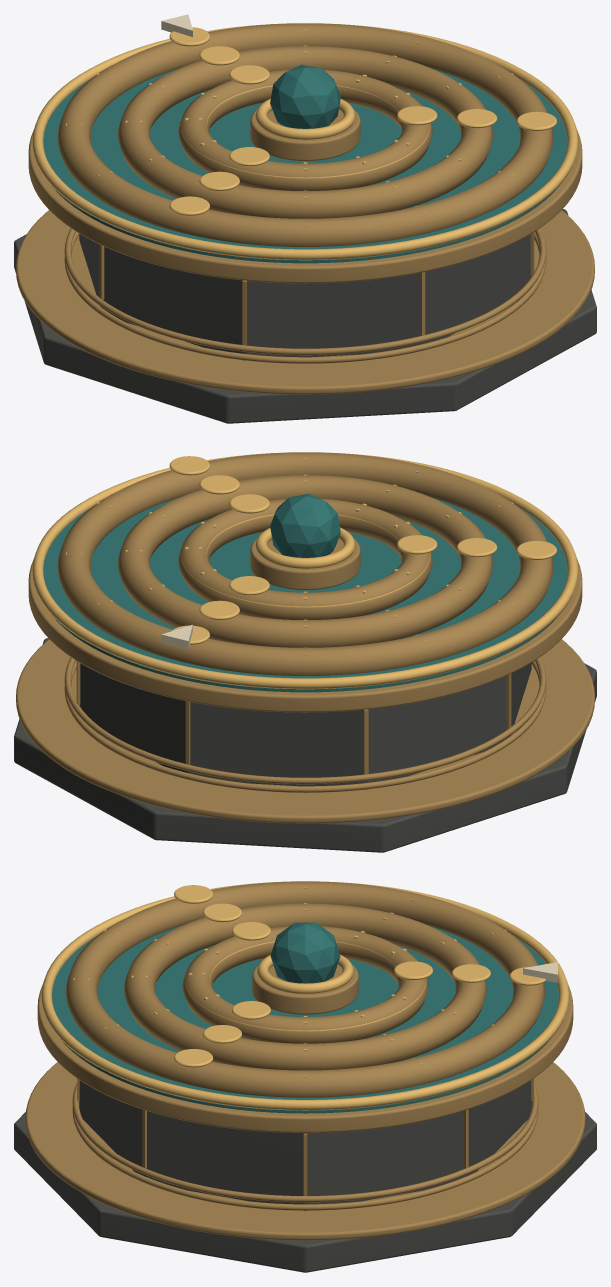
File: time-mechanism.glb
The picture shows the model from 3 angles, top to bottom: view 1: azimuth 30°, elevation 25°; view 2: azimuth 150°, elevation 25°; view 3: azimuth 270°, elevation 25°; orthographic projection. The views are drawn at different scales.
Parts seen in each view (by area): view 1: MechanismBody, RingSurface0, RingSurface1, RingSurface2; view 2: MechanismBody, RingSurface0, RingSurface1, RingSurface2; view 3: MechanismBody, RingSurface0, RingSurface1, RingSurface2.
Part boxes in pixels (<box>): MechanismBody: <box>14,14,596,423</box>; RingSurface0: <box>57,23,556,246</box>; RingSurface1: <box>118,45,497,218</box>; RingSurface2: <box>178,65,437,190</box>; MechanismBody: <box>14,452,596,852</box>; RingSurface0: <box>57,452,556,675</box>; RingSurface1: <box>118,474,497,647</box>; RingSurface2: <box>178,494,437,619</box>; MechanismBody: <box>14,881,596,1272</box>; RingSurface0: <box>66,881,545,1097</box>; RingSurface1: <box>124,903,490,1070</box>; RingSurface2: <box>182,922,432,1043</box>.
Bounding box in the file's own units: 3.83 × 1.64 × 3.83.
